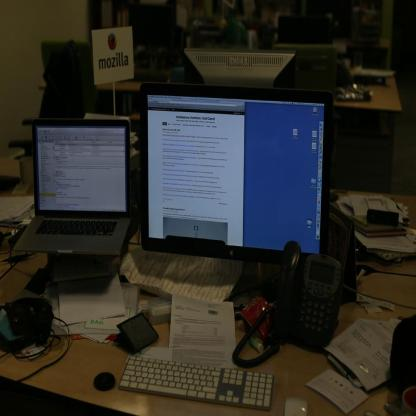board: (11, 117, 133, 259)
